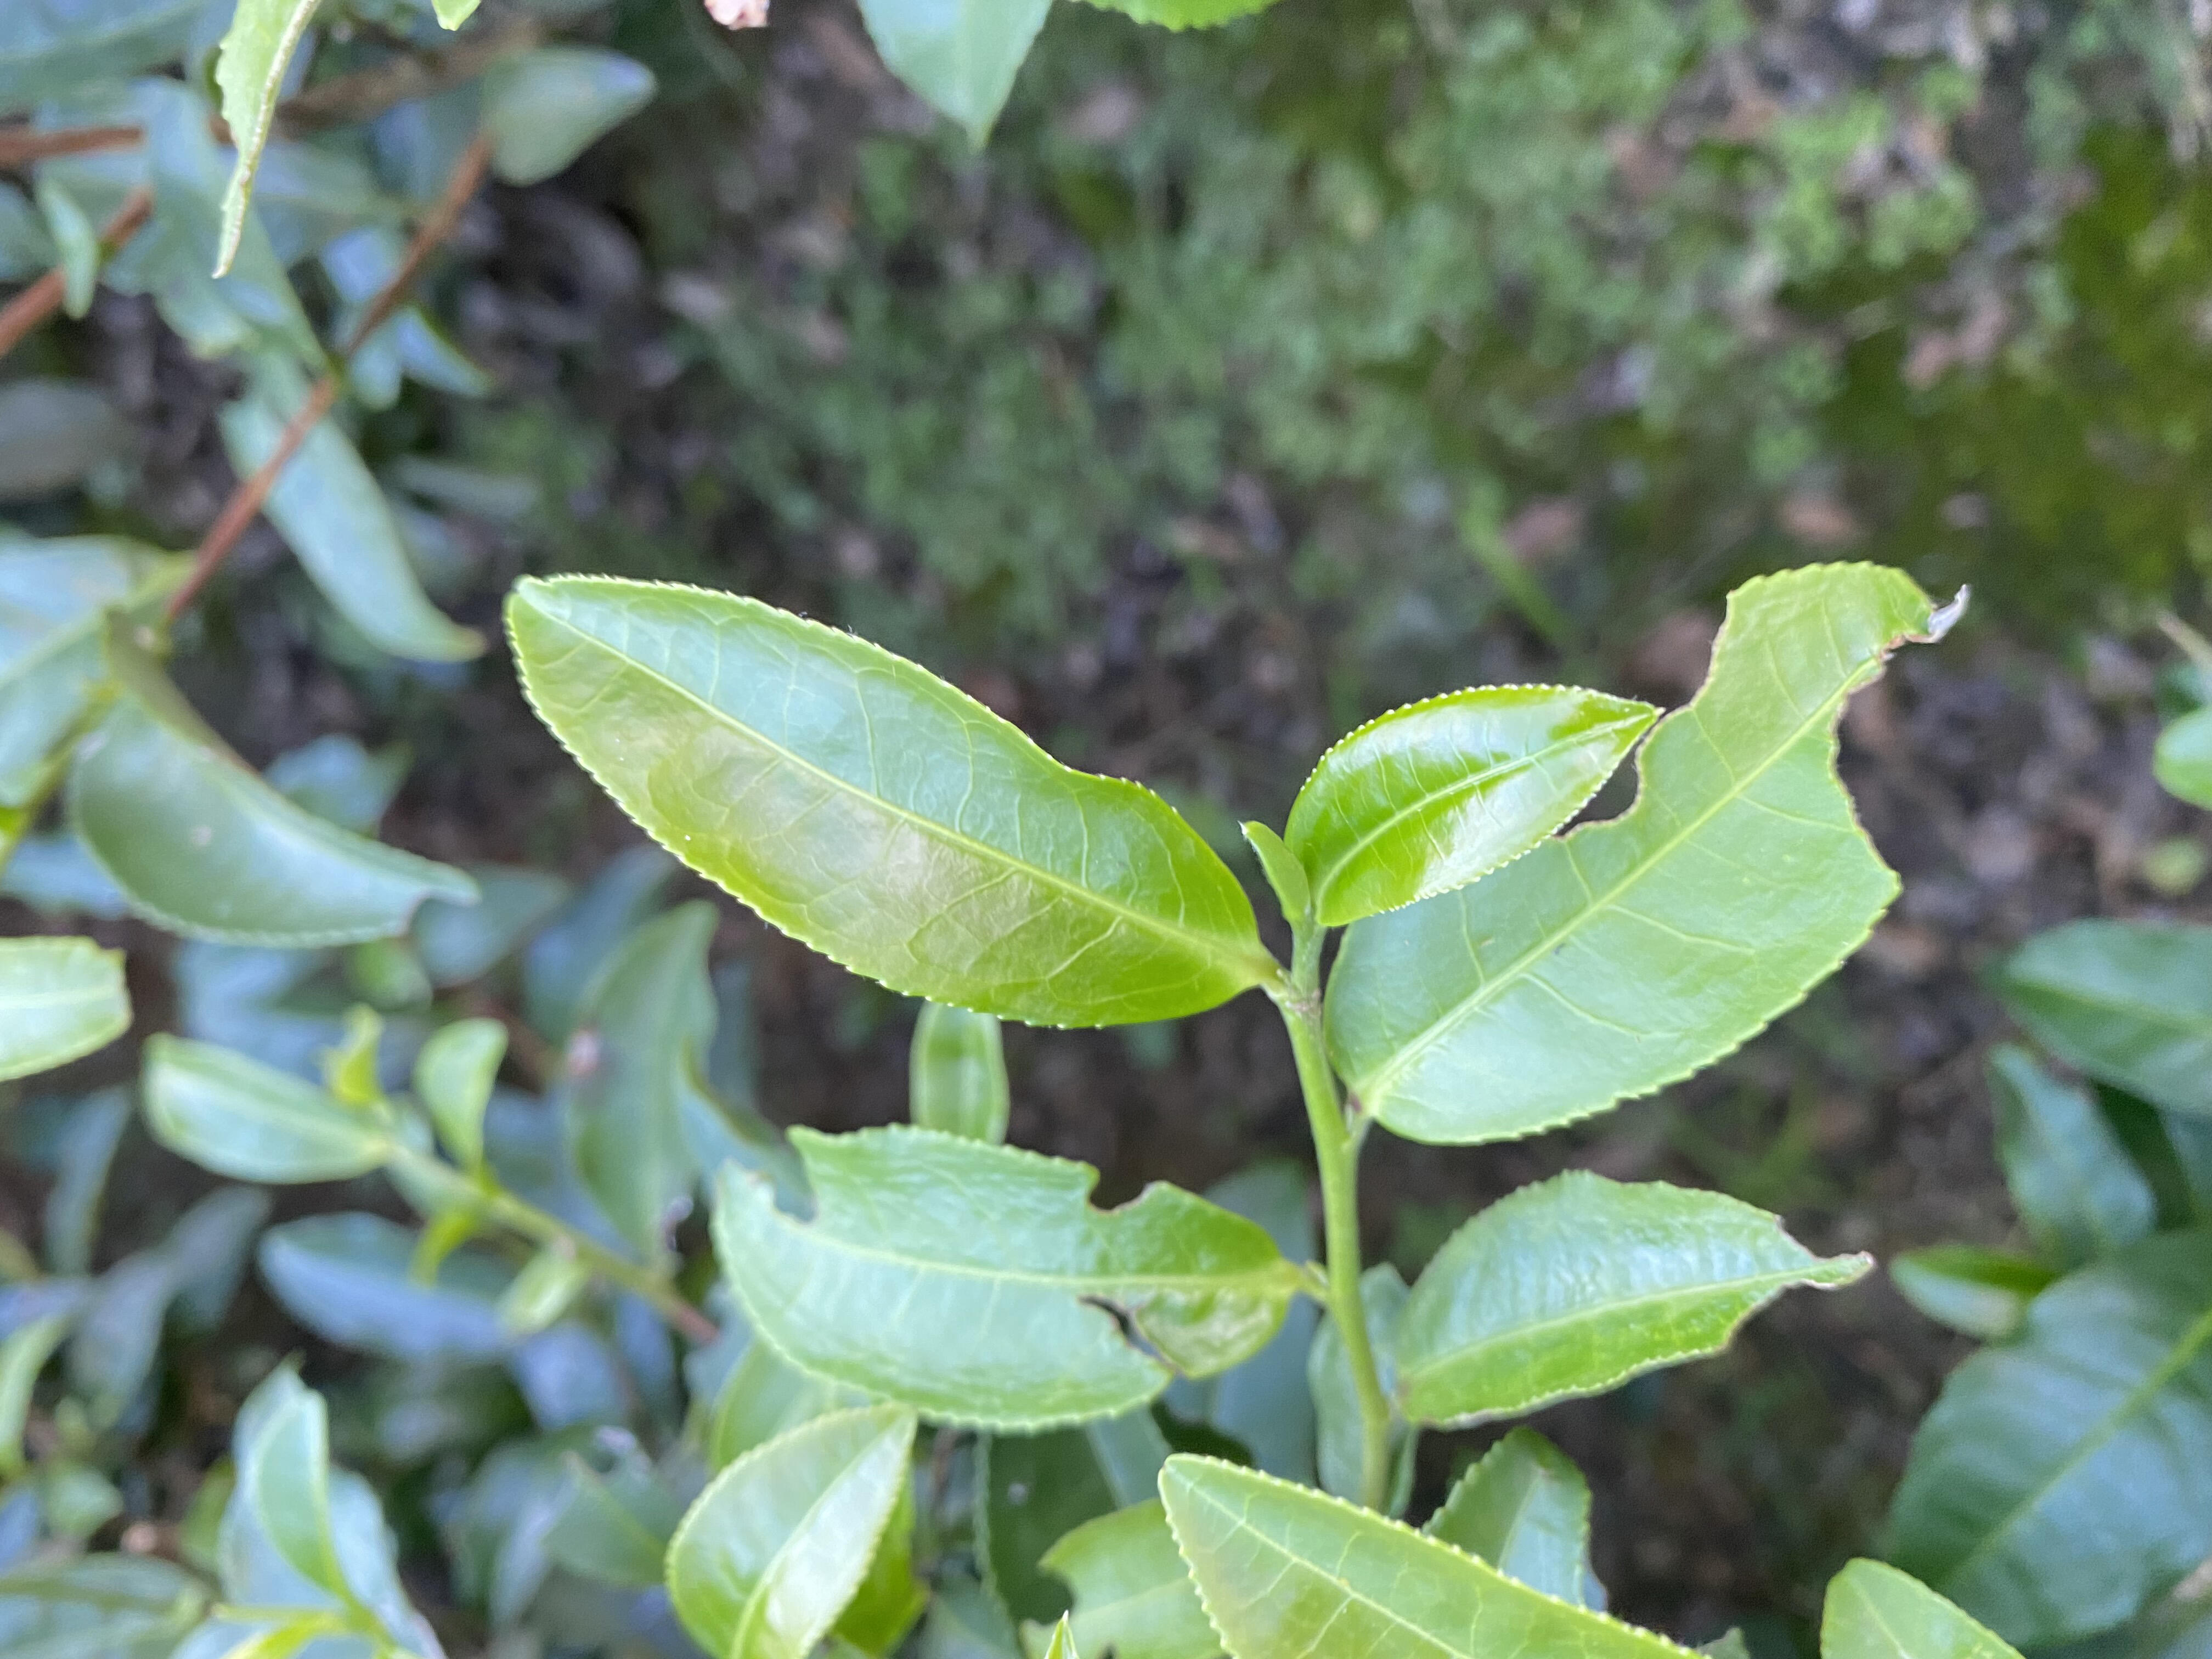chihuo_high: (1324, 559, 1972, 1150), (711, 1121, 1296, 1439), (1388, 1164, 1879, 1432)
healthy: (503, 568, 1259, 1033), (1282, 681, 1663, 934), (662, 1401, 918, 1656)
